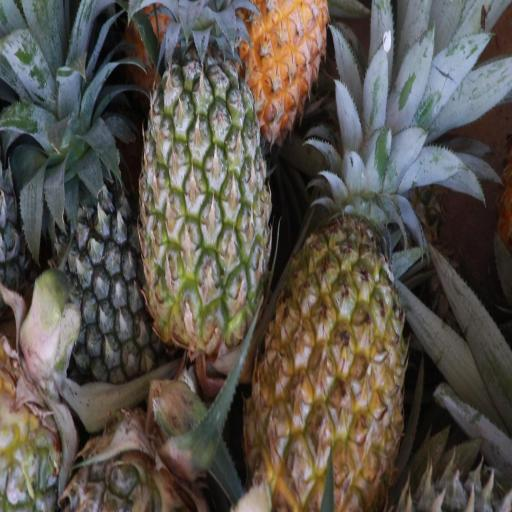------------------------------: (136, 34, 268, 351)
Pineapple - v8 v1: (257, 180, 404, 512), (221, 0, 325, 121)
